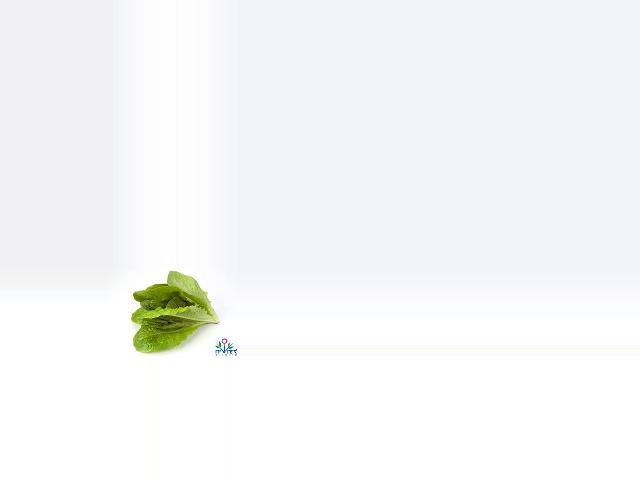lettuce: (128, 269, 219, 351)
